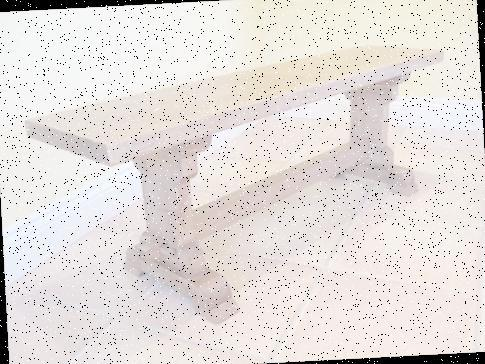Mesa: (22, 39, 462, 337)
